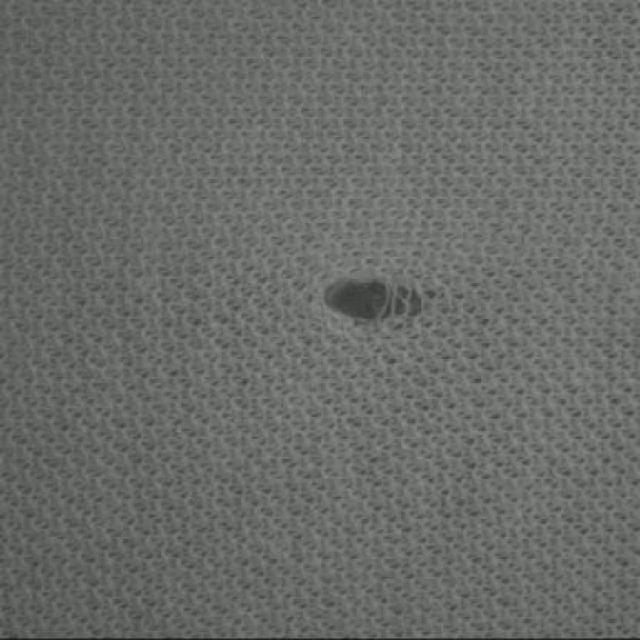Hole: (325, 281, 423, 322)
